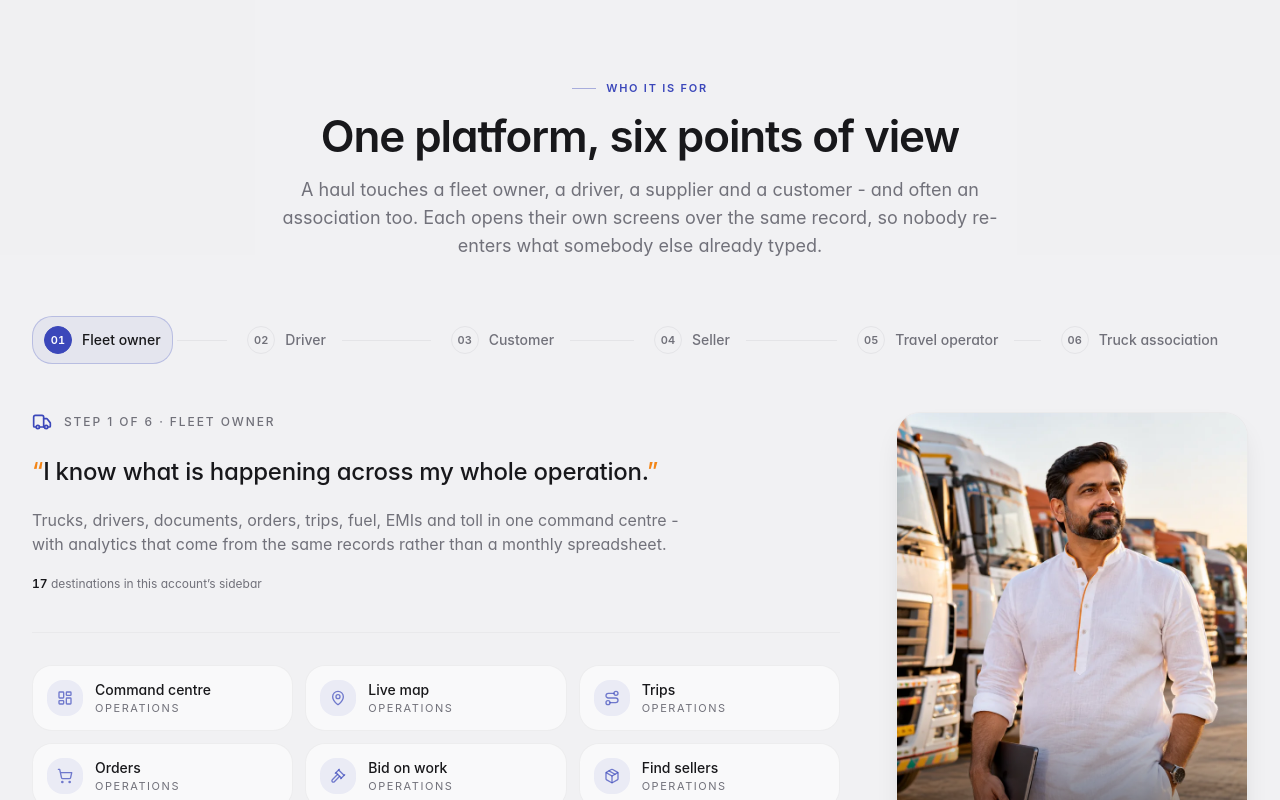
Scenario: role showcase › jumps straight to a role chosen on the rail
Click the button "02 Driver" at (287, 340), box [235,316,338,364]
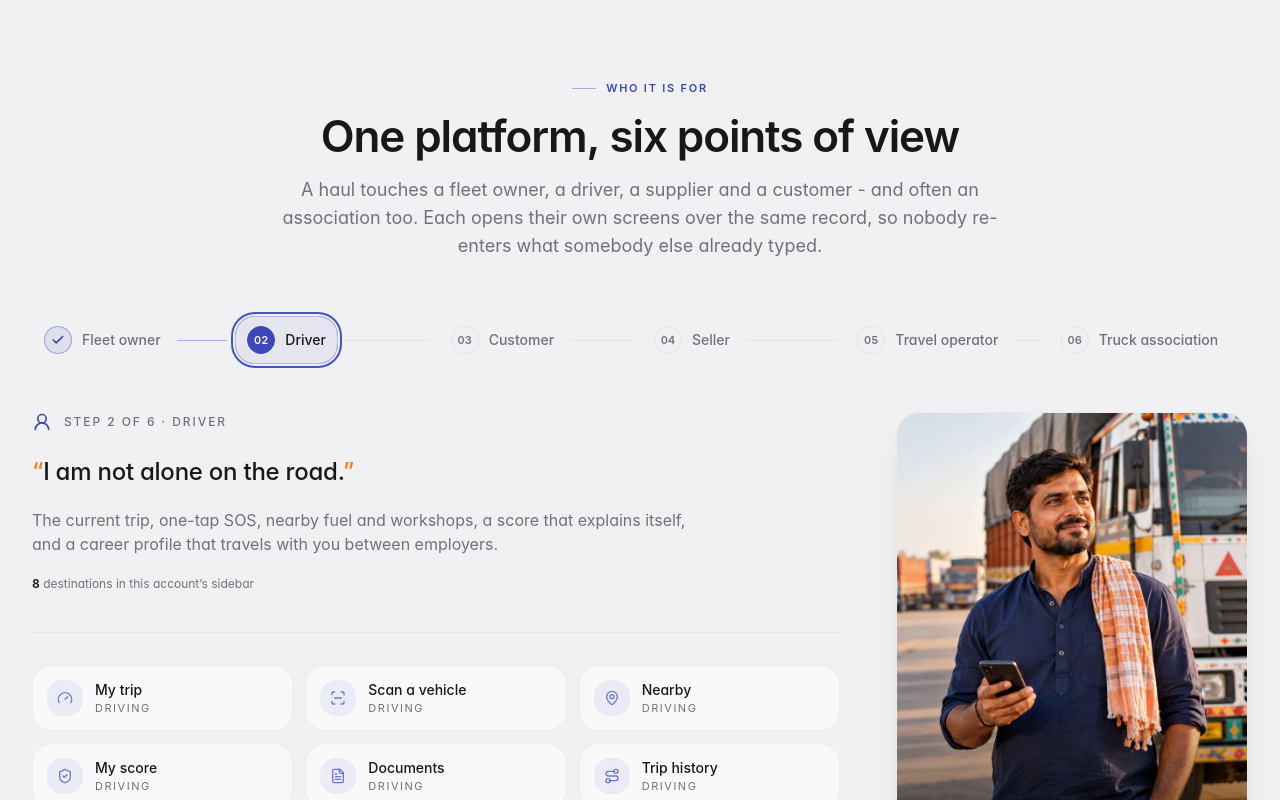
Result: the text "I am not alone on the road." is shown at [43,457,343,486]
